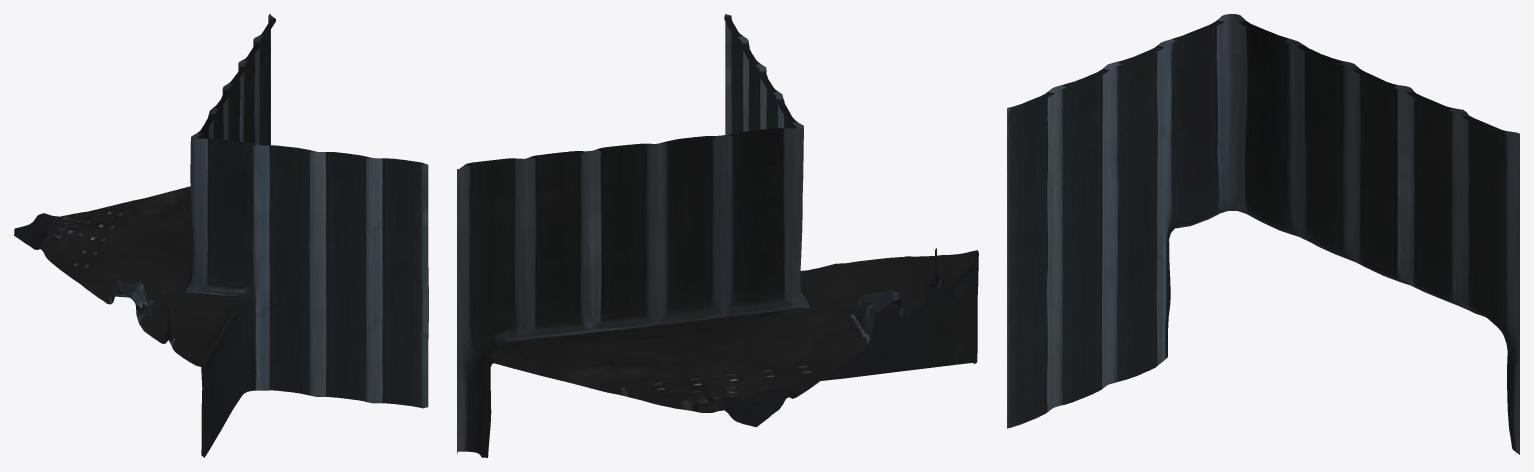
File: z20-167779-405234-h1-yup-uvflip-v3-world.glb
3 views of the same model, side by side, from view 1: azimuth 30°, elevation 25°; view 2: azimuth 150°, elevation 25°; view 3: azimuth 270°, elevation 25° (orthographic). The views are drawn at different scales.
Size of the model in its own units: 23.2 by 21.08 by 30.32.
Materials: 1 (1 with a texture image).
